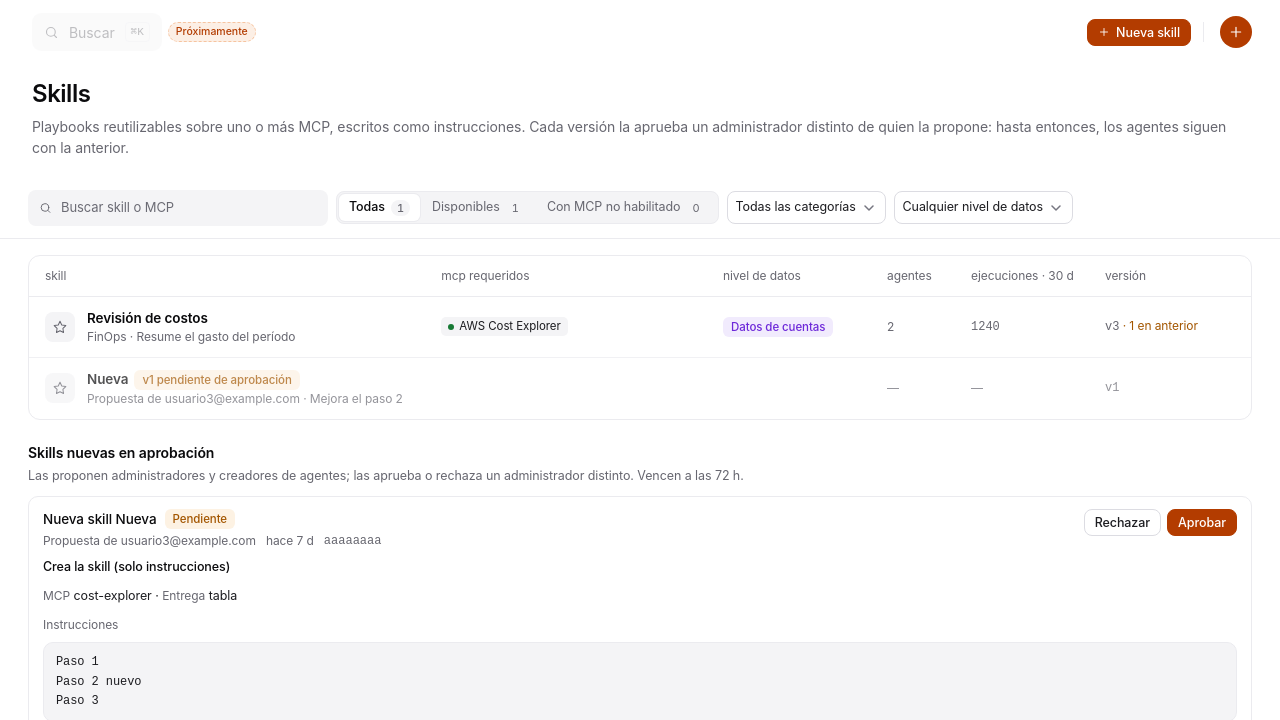
SkillsPage › rejects with a note, and says why a decision was refused
The image size is (1280, 720).
Expected: the element that starts with "Nueva skill Nueva" is shown, [43,511,156,527]
Click the button "Rechazar" at [1122, 522], box [1084,509,1161,536]
(page scrolled)
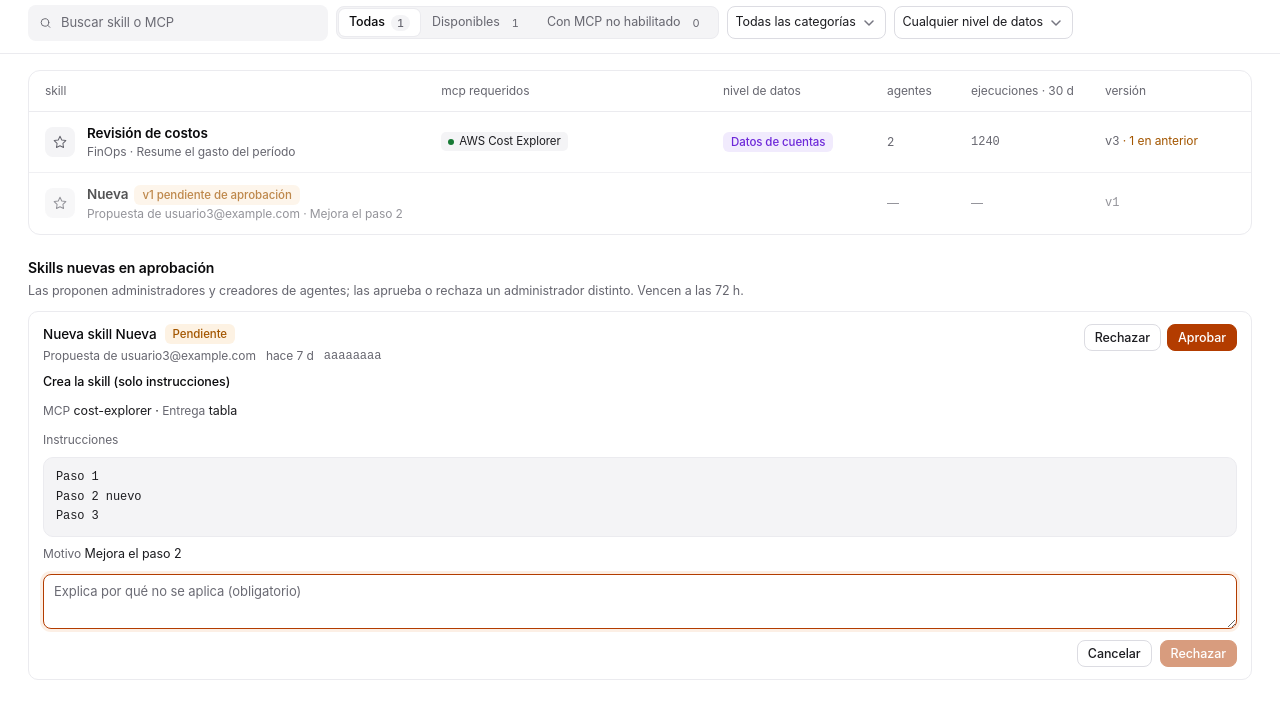
Expected: the 2nd button "Rechazar" is disabled, [1160,640,1237,667]
Type "No sirve" into the text box named "Motivo del rechazo" at [640, 601], box [43,574,1237,629]
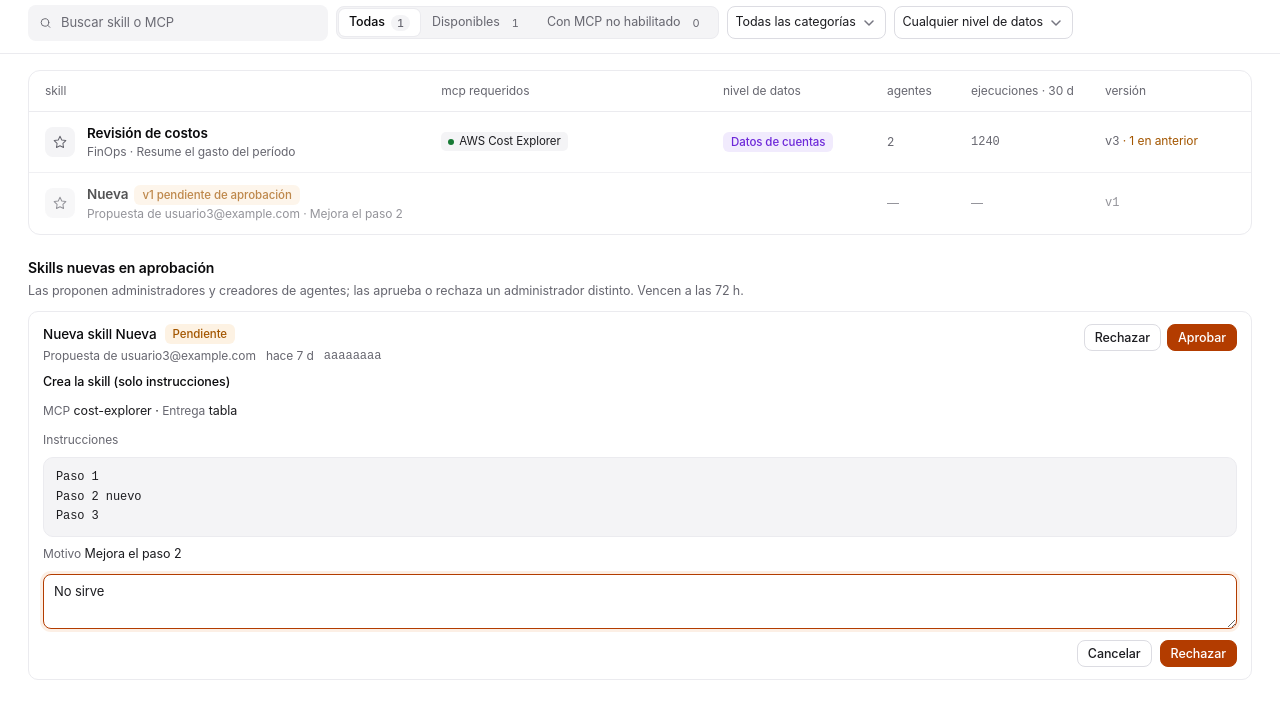
Click the 2nd button "Rechazar" at [1198, 653], box [1160,640,1237,667]
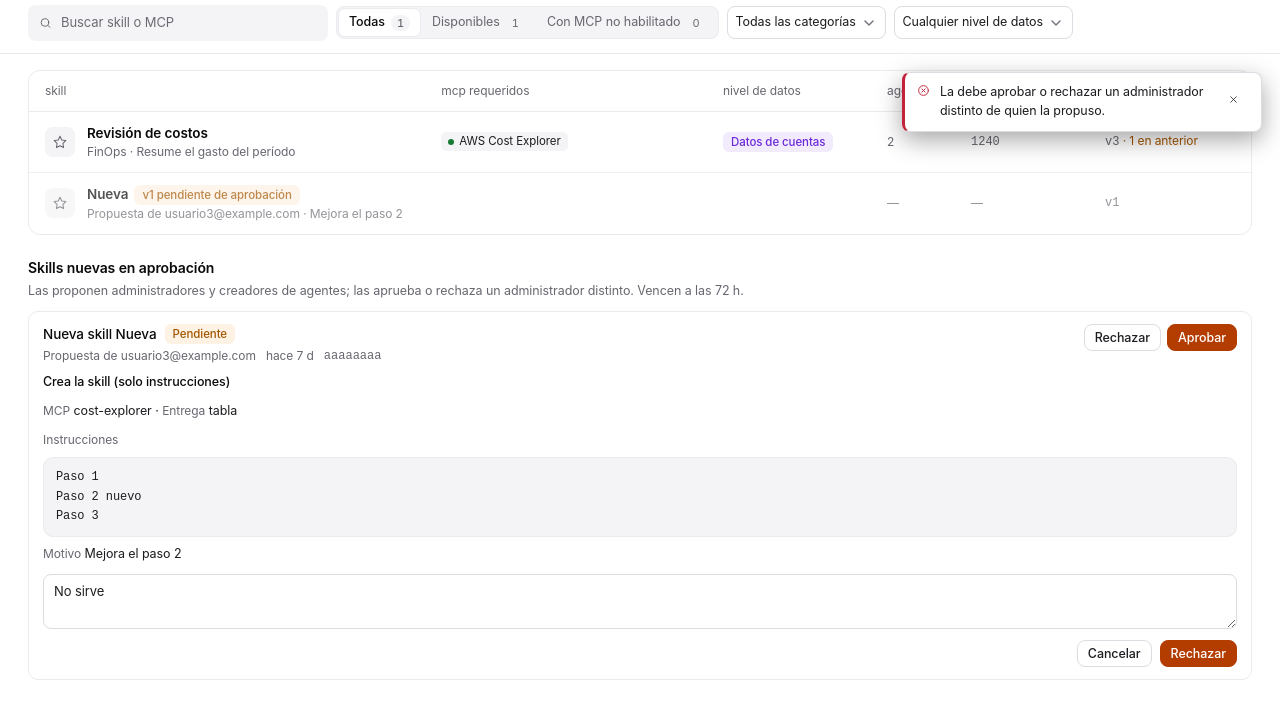
Expected: the text "La debe aprobar o rechazar un administrador distinto de quien la propuso." is shown, [940,83,1207,120]
